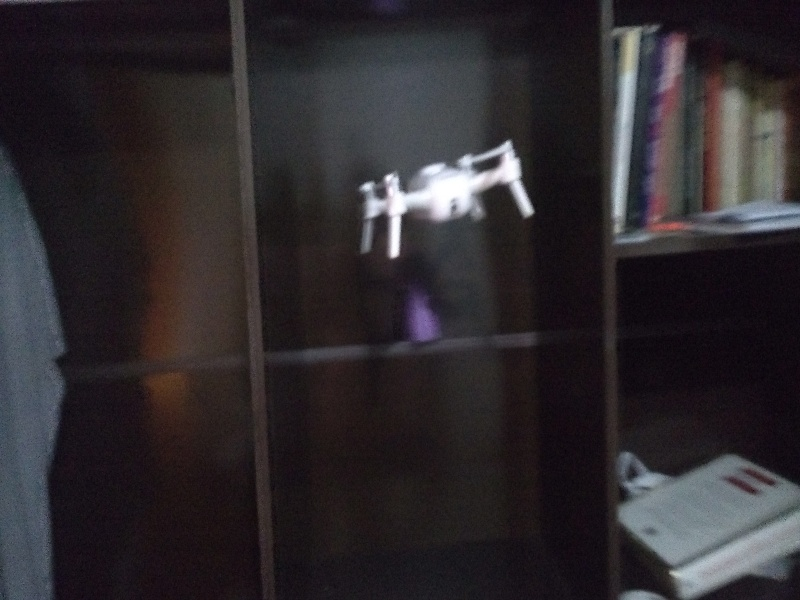drone: (355, 137, 532, 260)
